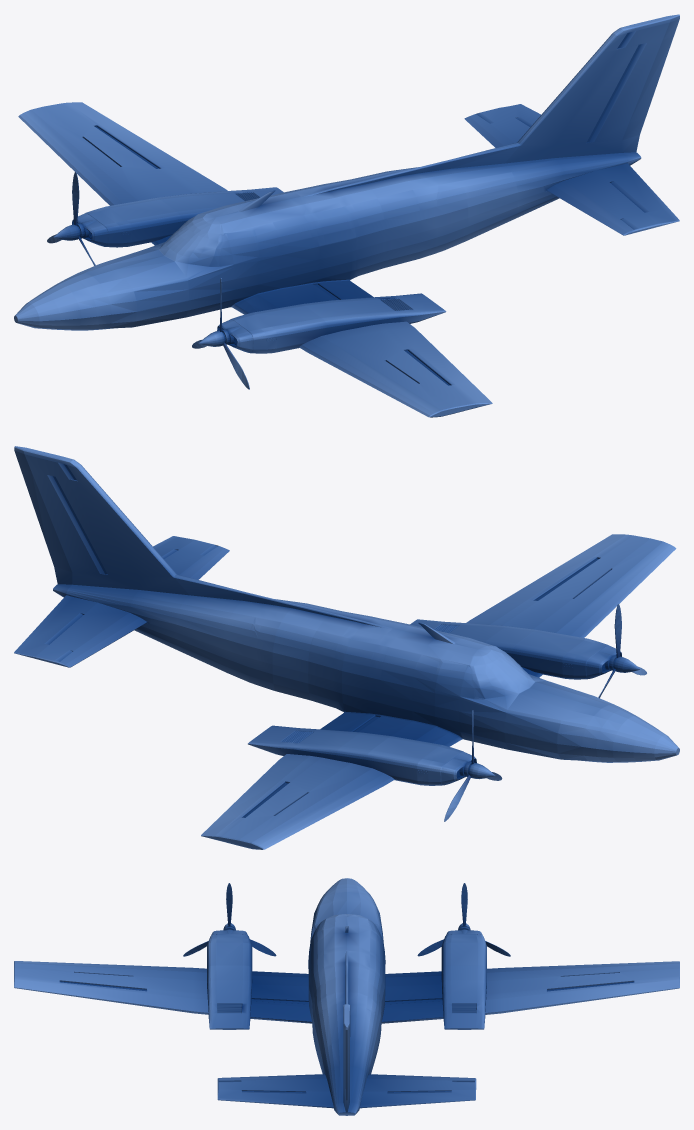
The model's file is cessna7KC.obj.
3 renders of one model, top to bottom at view 1: azimuth 30°, elevation 25°; view 2: azimuth 150°, elevation 25°; view 3: azimuth 270°, elevation 25°, orthographic. The views are drawn at different scales.
Bounding box in the file's own units: 41.2 × 10.24 × 44.3.
